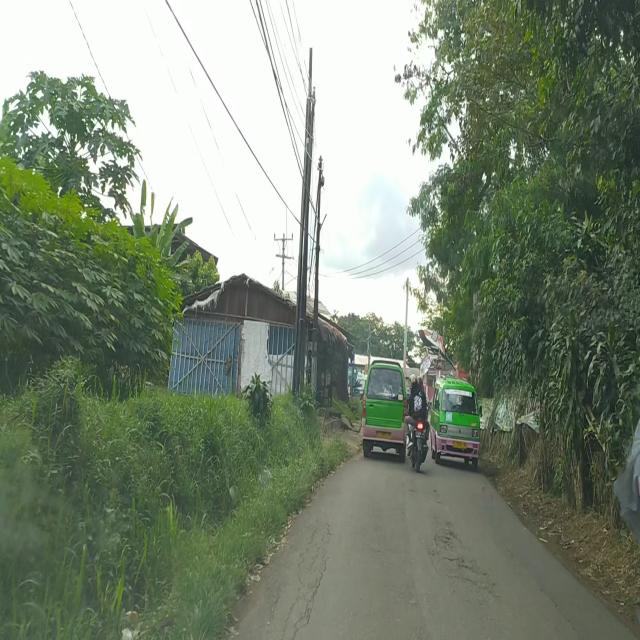Drain Hole: (272, 521, 338, 640), (424, 511, 496, 594)
